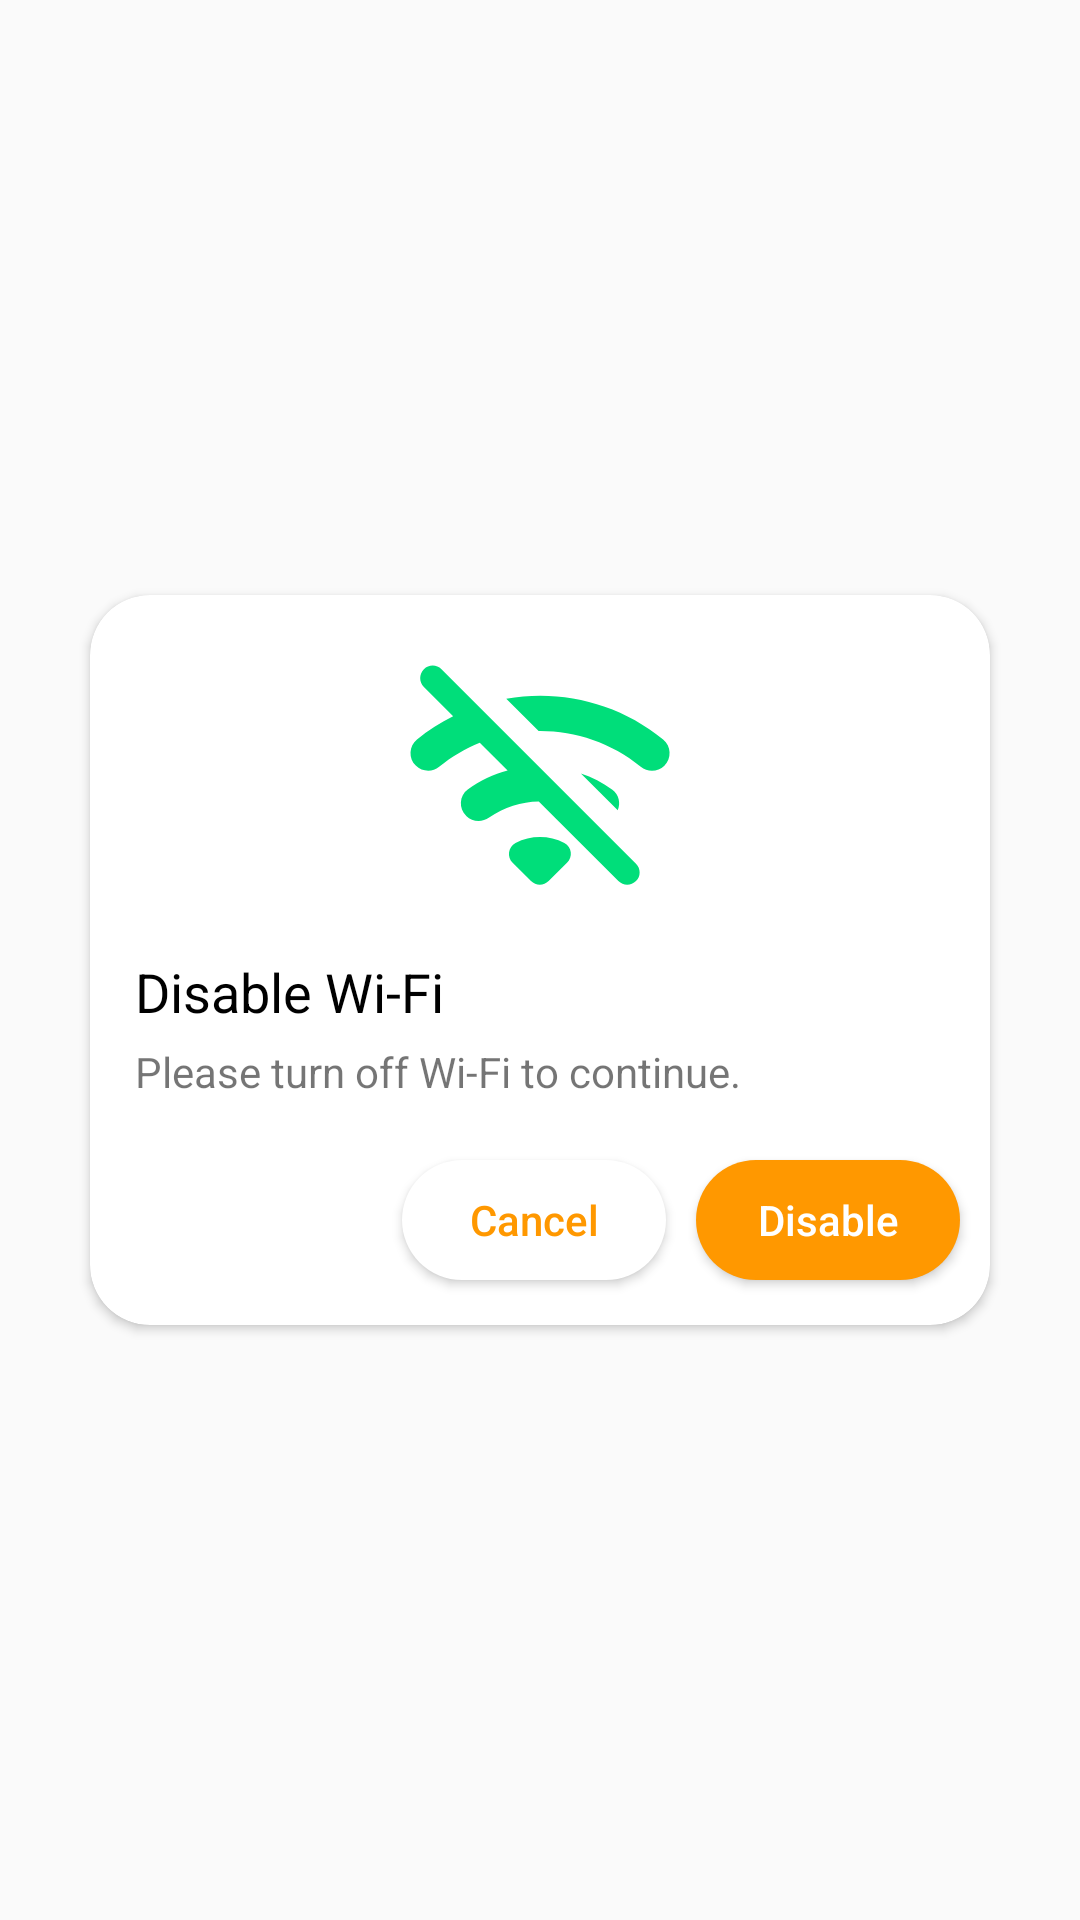

Icons on this 1080 × 1920 Android screen, each with the point to tap as [x,y]:
wifi off: [540,775]
